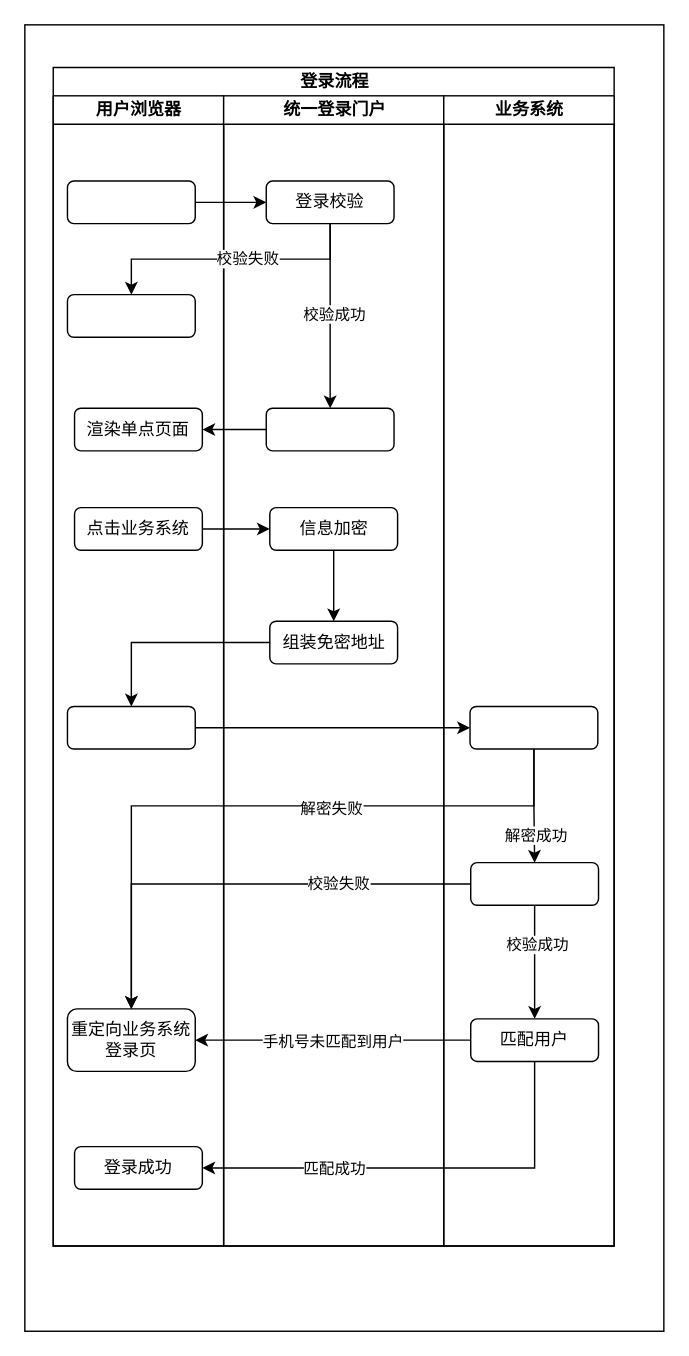
Image size: 689x1356. Some labels were removed from this diagram. The shapes that lost their labels are listed below. From the top down, each one's centre as x and y in pixels, then its label:
the point at 130,202: 登录
the point at 130,315: 重新登录
the point at 329,429: 匹配系统权限
the point at 130,727: 新标签访问
the point at 533,727: 解密信息
the point at 534,883: 校验sk
